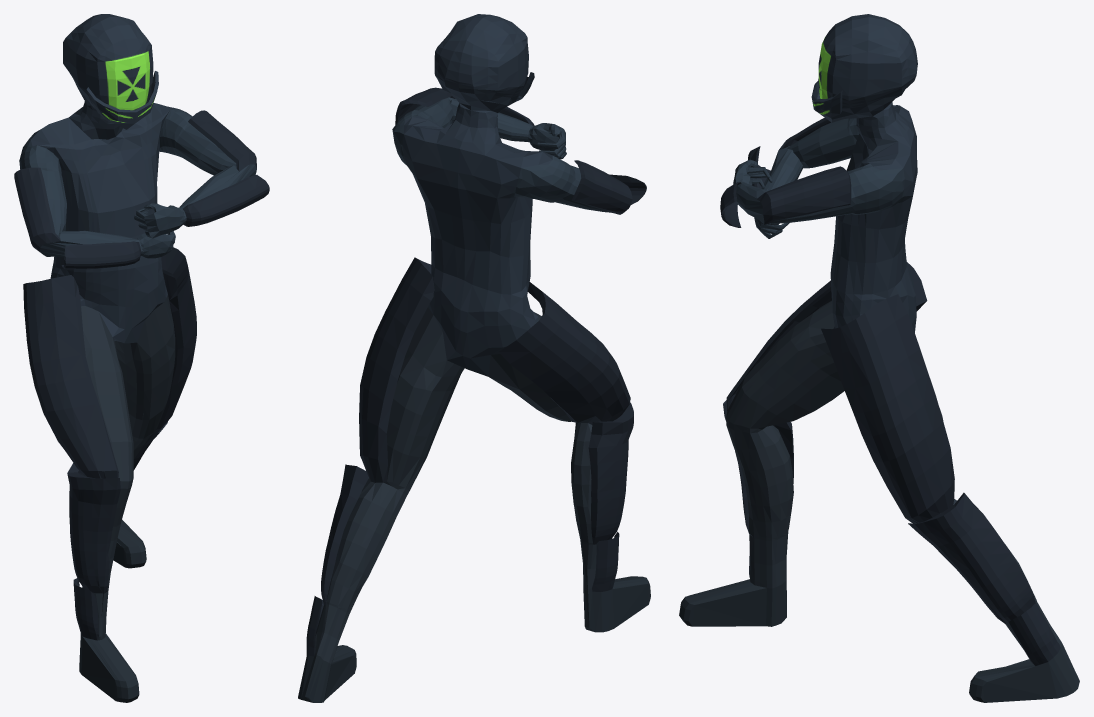
The model's file is Bastion_Stun_000003.obj.
3 renders of one model, left to right at view 1: azimuth 30°, elevation 25°; view 2: azimuth 150°, elevation 25°; view 3: azimuth 270°, elevation 25°, orthographic. The views are drawn at different scales.
Parts seen in each view (by area): view 1: Cube.002; view 2: Cube.002; view 3: Cube.002.
Part boxes in pixels (left/top/right/bottom): Cube.002: left=14, top=14, right=269, bottom=702; Cube.002: left=298, top=14, right=650, bottom=702; Cube.002: left=679, top=14, right=1079, bottom=702.
Size of the model in its own units: 1.32 by 3.62 by 2.05.
